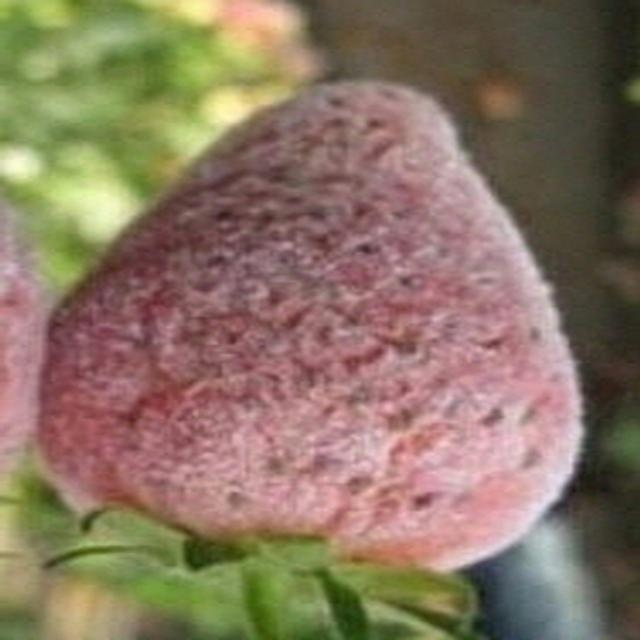Powdery Mildew Fruit: (25, 78, 584, 589)
